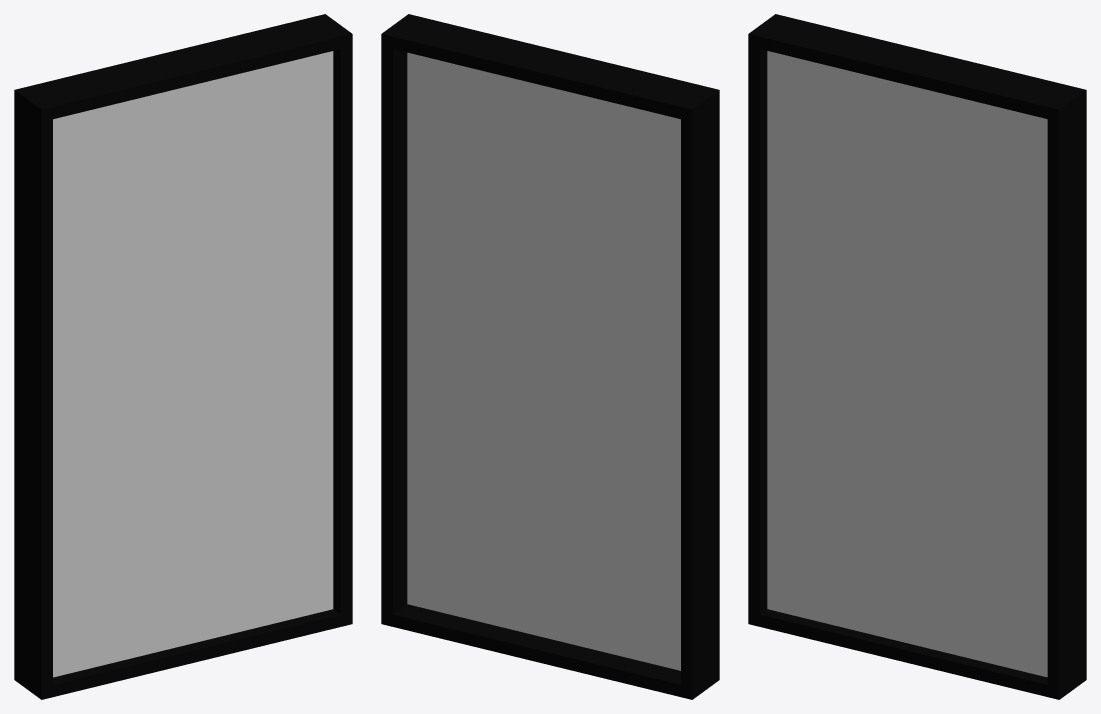
File: wxI.fbx
The picture shows the model from 3 angles, left to right: view 1: azimuth 30°, elevation 25°; view 2: azimuth 150°, elevation 25°; view 3: azimuth 330°, elevation 25°; orthographic projection.
Visible parts, largest first — view 1: glass, i; view 2: glass, i; view 3: glass, i.
Boxes of the visible parts, left/top/right/bottom form: glass: left=53, top=51, right=333, bottom=677; i: left=14, top=14, right=352, bottom=699; glass: left=407, top=52, right=680, bottom=670; i: left=381, top=14, right=719, bottom=699; glass: left=767, top=51, right=1047, bottom=677; i: left=748, top=14, right=1086, bottom=699.
Bounding box in the file's own units: 13.21 × 23.95 × 2.
